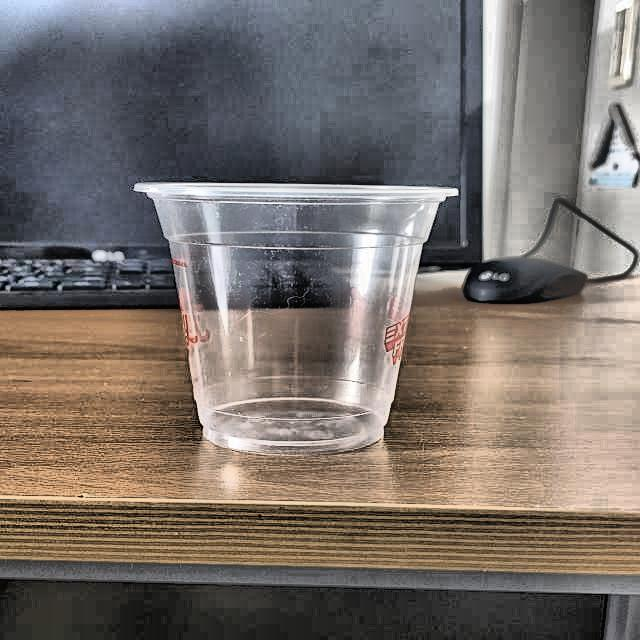plastic cup: (131, 177, 461, 457)
